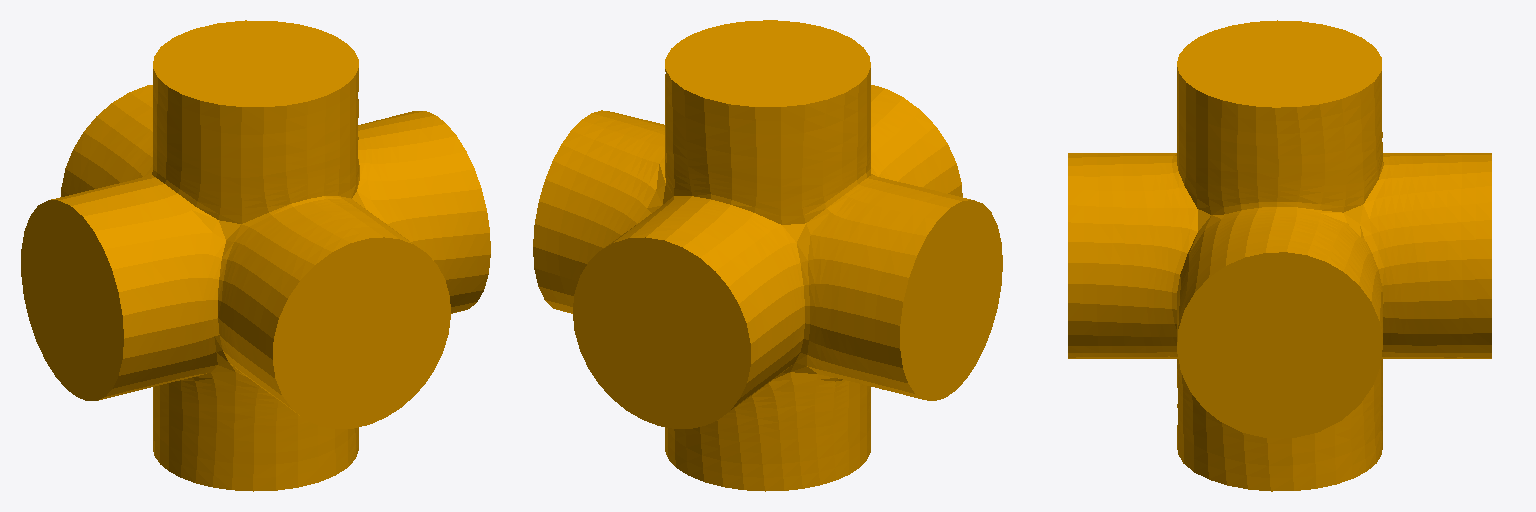
The robot description file, URDF, robot "object":
<robot name="object">
  <link name="object">
    <visual>
      <origin xyz="0 0 0"/>
      <geometry>
        <mesh filename="visual.obj" scale="1 1 1"/>
      </geometry>
    </visual>
    <collision>
      <origin xyz="0 0 0"/>
      <geometry>
        <mesh filename="visual.obj" scale="1 1 1"/>
      </geometry>
    </collision>
    <inertial>
      <mass value="0.05"/>
      <inertia ixx="4.316265142146187e-05" iyy="4.314036721831497e-05" izz="4.3160584689420354e-05" ixy="6.065124925409996e-10" ixz="-1.2507194190609331e-08" iyz="7.318953814701351e-09"/>
    </inertial>
  </link>
</robot>

--- Render facts (derived) ---
3 views of the same robot in one strip: view 1: azimuth 30°, elevation 25°; view 2: azimuth 150°, elevation 25°; view 3: azimuth 270°, elevation 25° (orthographic).
Model object with 1 links and 0 joints (none), rooted at object, posed all joints at 0.
Visible links, largest first — view 1: object; view 2: object; view 3: object.
Boxes of the visible links, x1,y1,x2,y2 form: object: (21,20,490,491); object: (533,20,1002,491); object: (1068,20,1491,491).
Bounding box of the posed robot: 0.096 × 0.096 × 0.096 m (x, y, z).
Meshes: 1 distinct files referenced, 1 mesh visuals loaded (1 OBJ).
